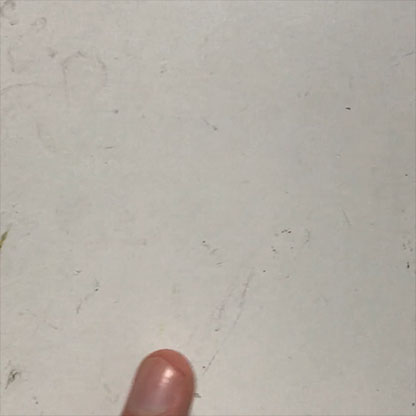fingertip: (121, 336, 201, 413)
